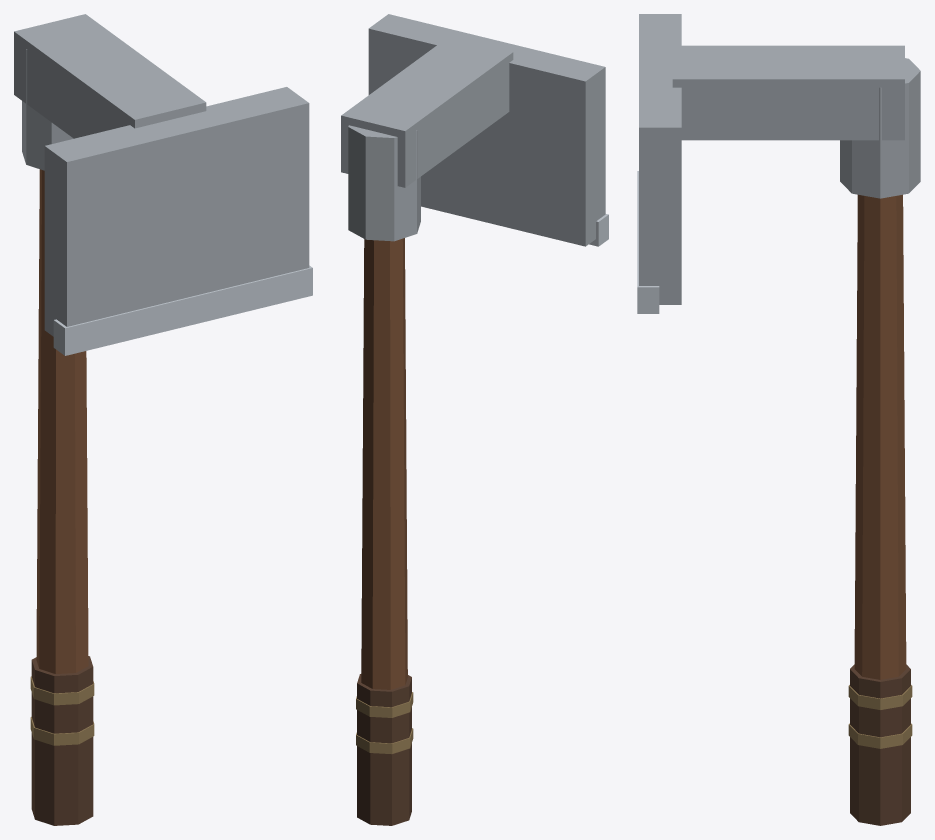
File: tool_hoe_iron.glb
The picture shows the model from 3 angles, left to right: view 1: azimuth 30°, elevation 25°; view 2: azimuth 150°, elevation 25°; view 3: azimuth 270°, elevation 25°; orthographic projection. The views are drawn at different scales.
Parts seen in each view (by area): view 1: tool_hoe_iron; view 2: tool_hoe_iron; view 3: tool_hoe_iron.
Part boxes in pixels (x1=…): tool_hoe_iron: x1=14, y1=14, x2=312, y2=825; tool_hoe_iron: x1=341, y1=14, x2=608, y2=825; tool_hoe_iron: x1=637, y1=14, x2=920, y2=825.
Size of the model in its own units: 0.225 by 0.6775 by 0.232.
